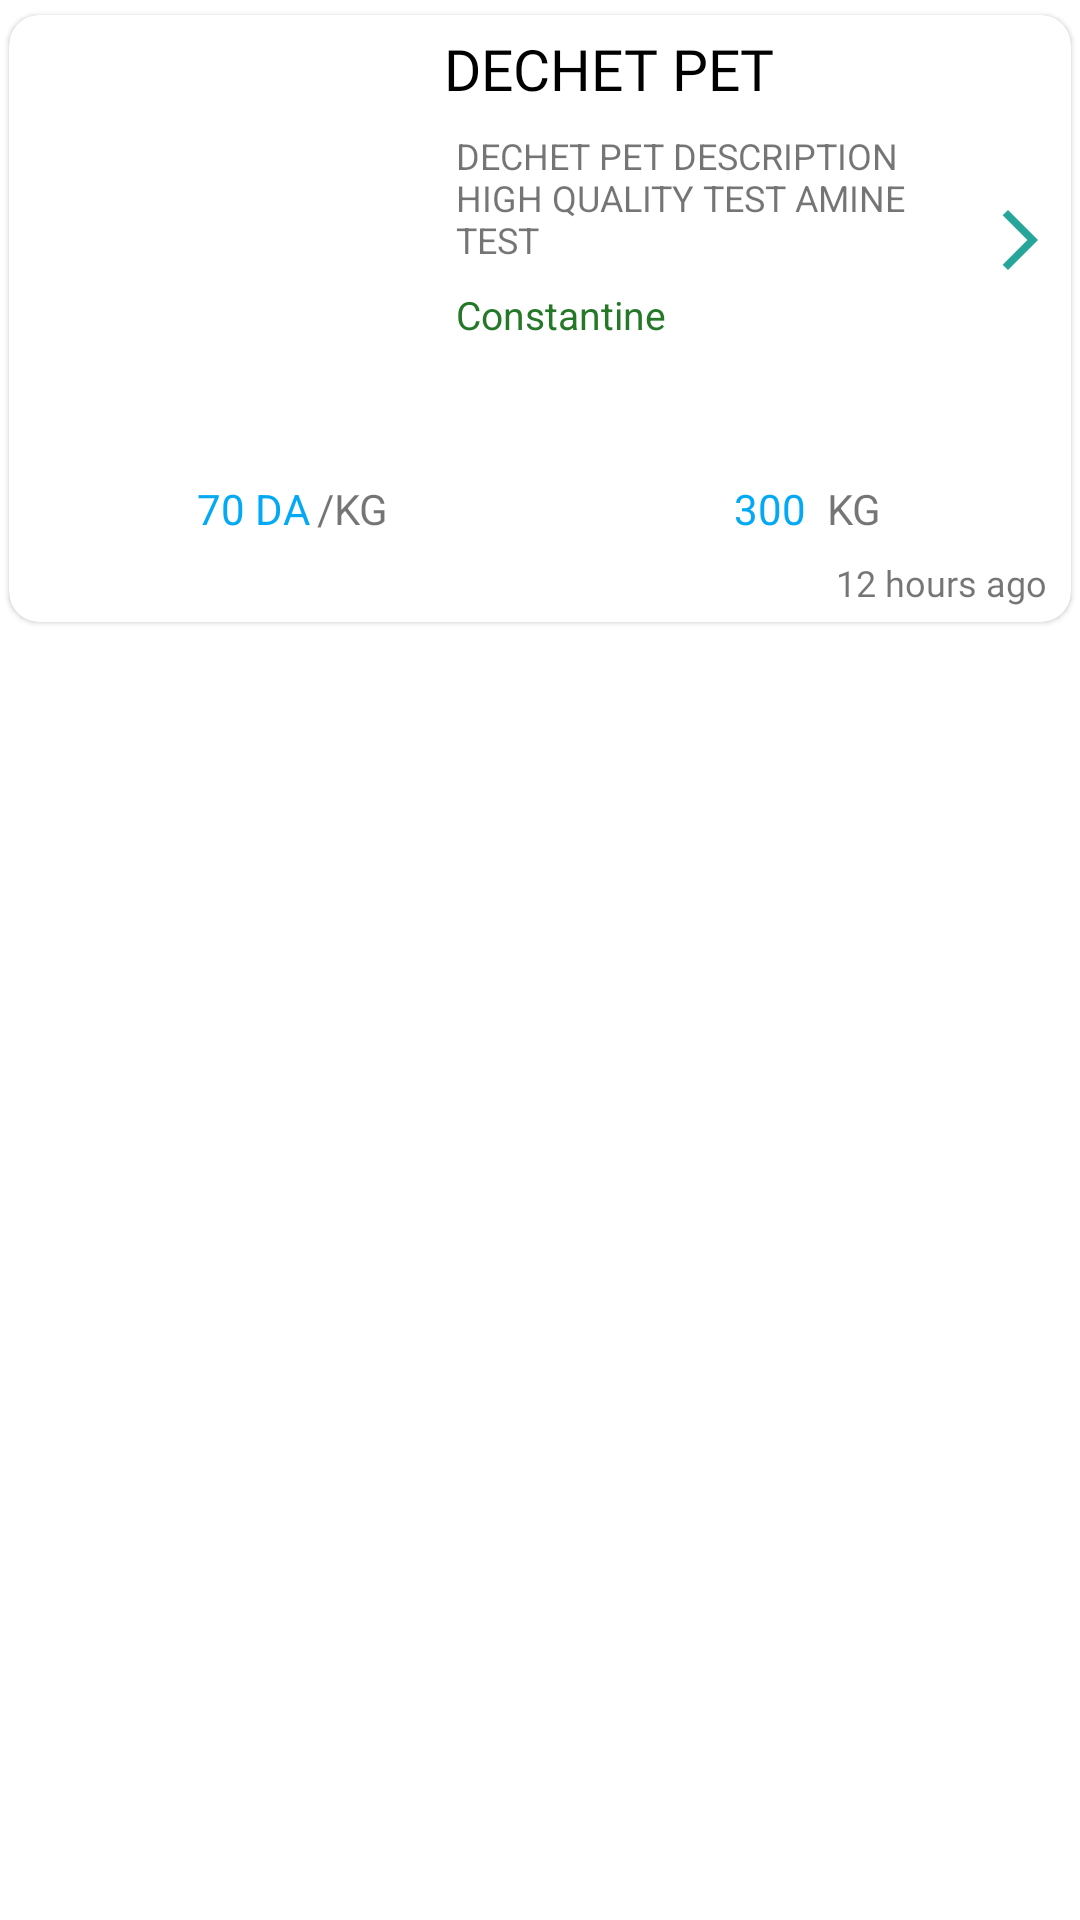

Screen size 1080px×1920px. Icon name, then its box in pixels as [x1=x1, y1=y1, x2=x2, y2=y2]:
arrow right: [x1=1003, y1=210, x2=1038, y2=270]
